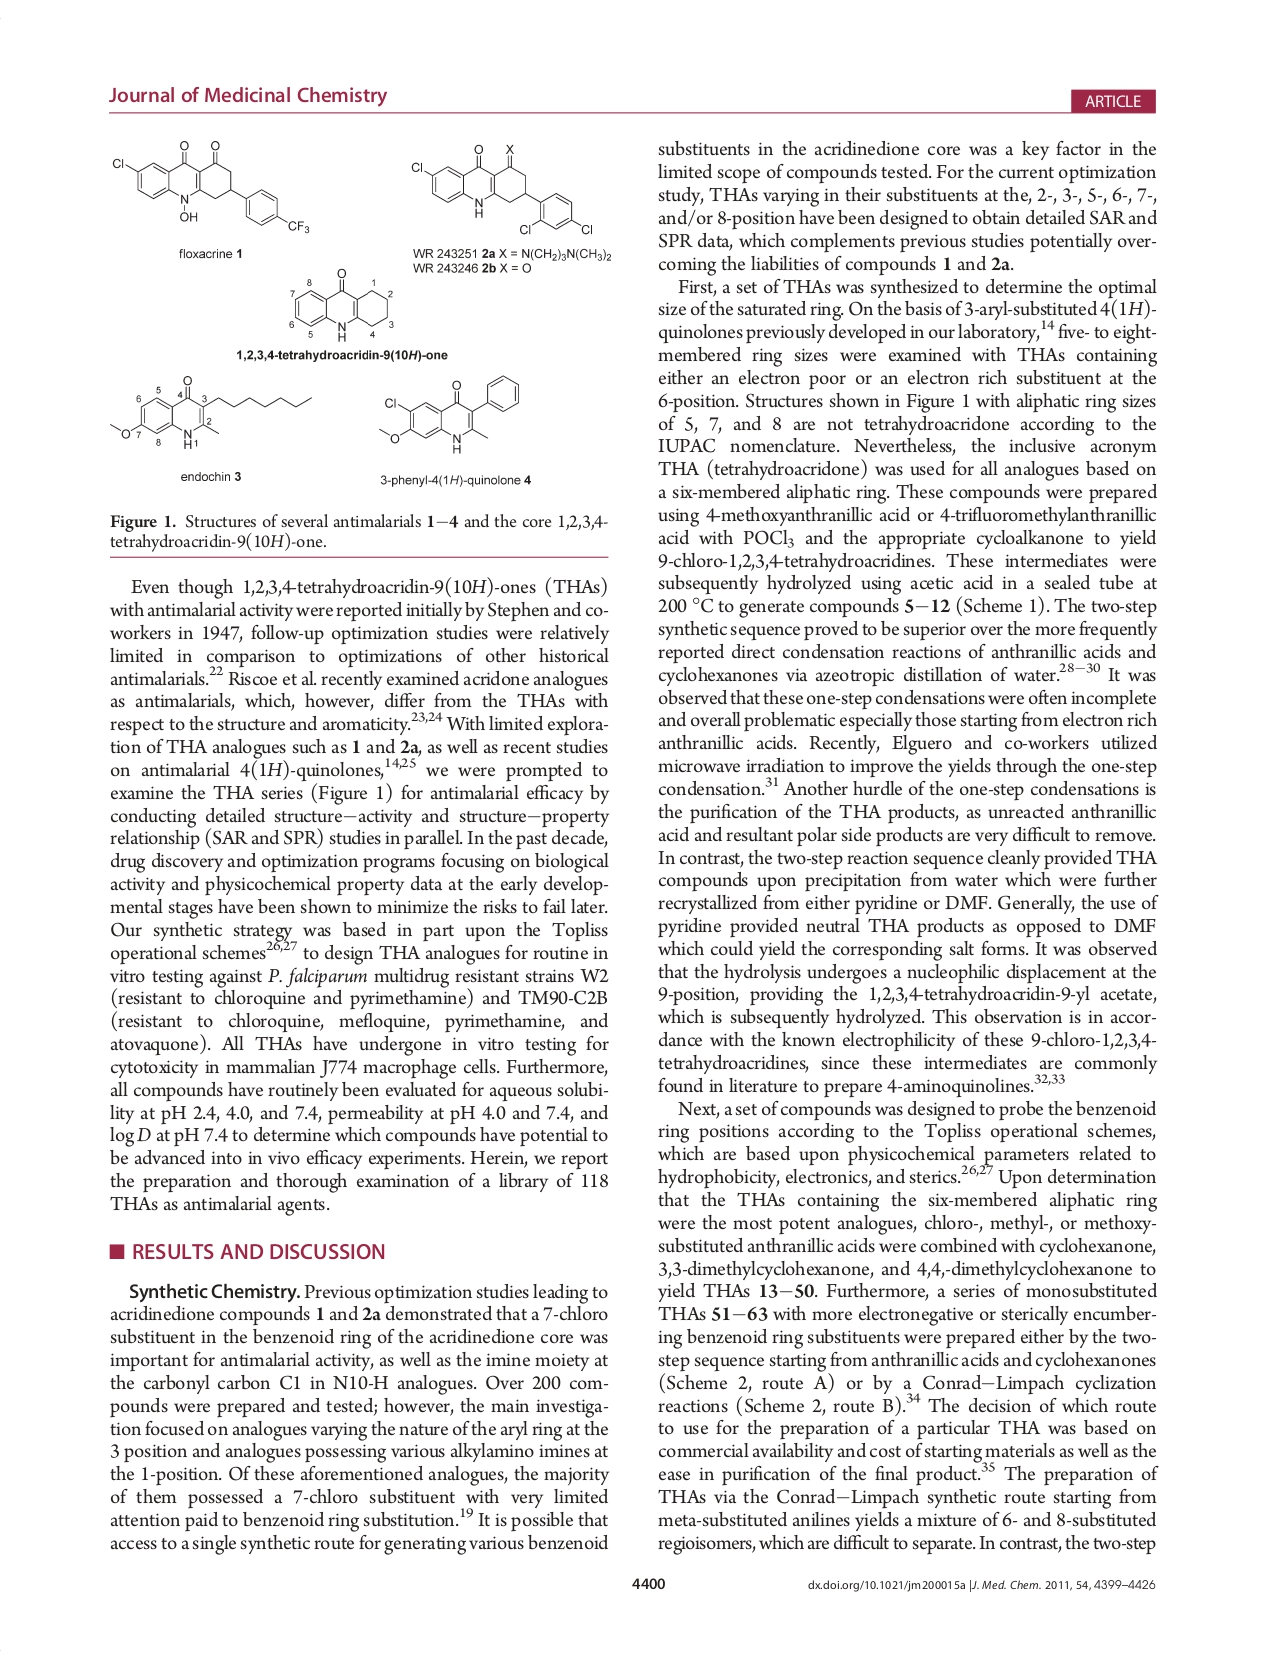exist_molecular: (105, 134, 309, 239), (410, 138, 596, 242), (106, 374, 313, 449), (372, 372, 523, 456), (293, 267, 392, 343)
